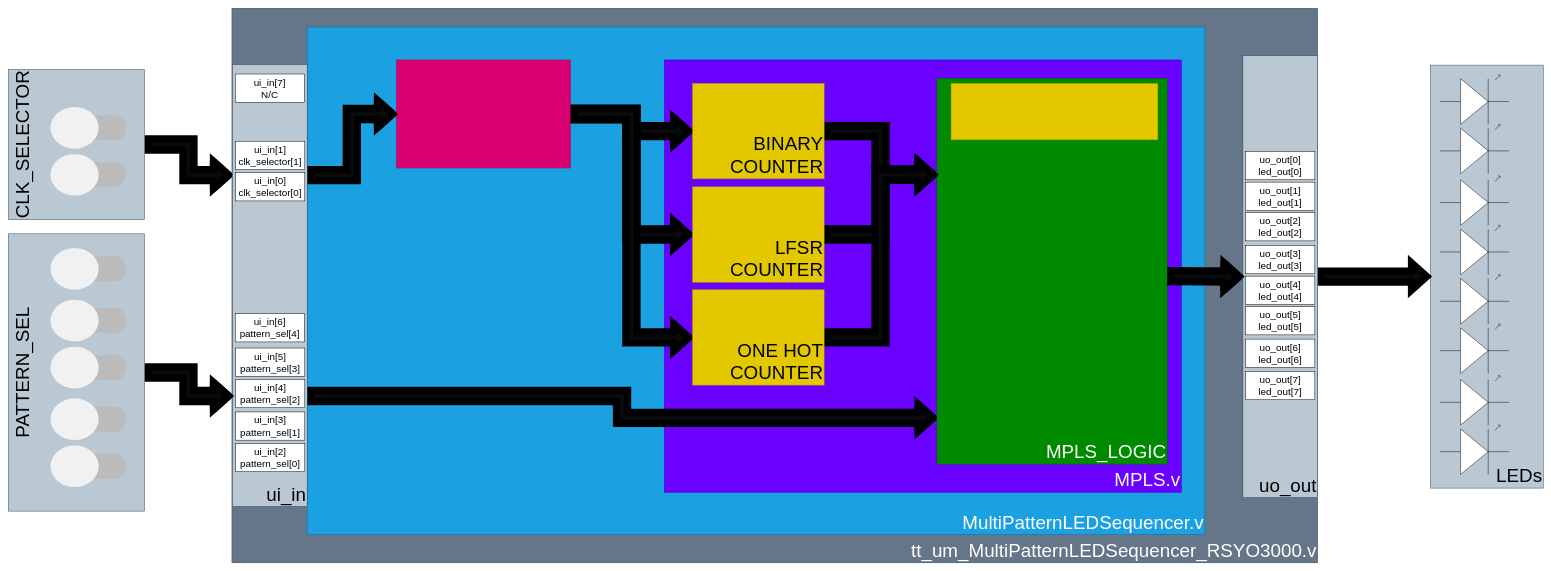
Image size: 1551x571. Some labels were removed from this diagram. Here are the shapes that lost their labels. From the top down, the centre of each, then its label:
the point at 483,113: PLL_10MHztoNHz.v
the point at 1054,111: DEMO COUNTER
